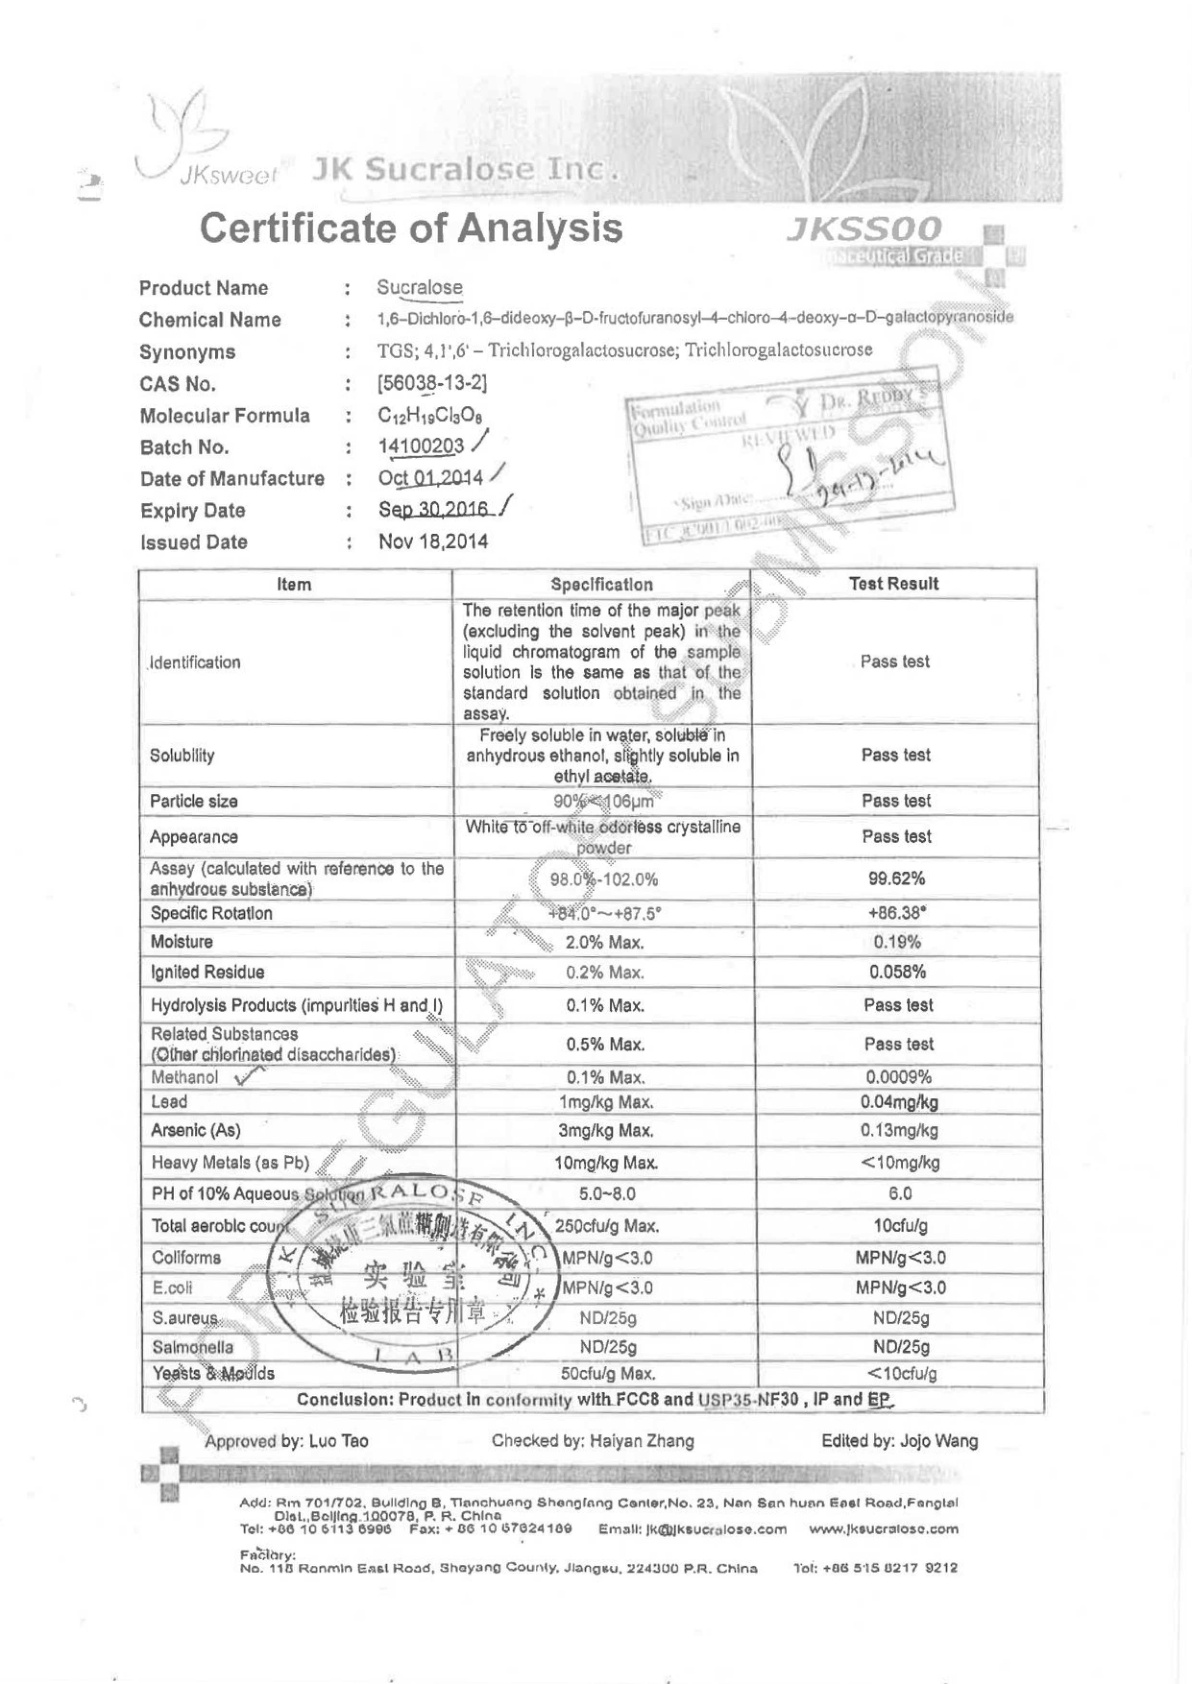full_lined: (135, 565, 1048, 1418)
nolines: (134, 277, 1019, 554)
